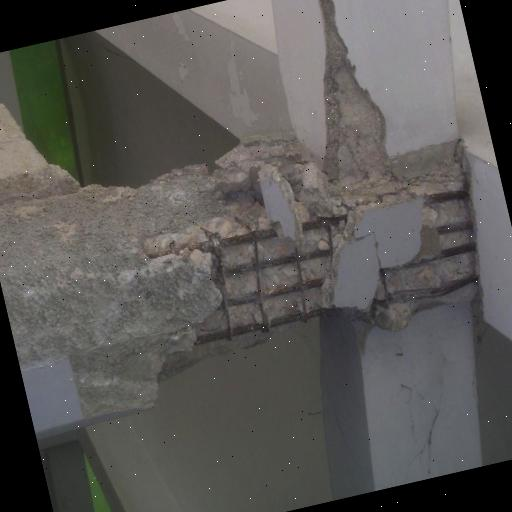spalling: (38, 149, 496, 398), (320, 0, 390, 168)
